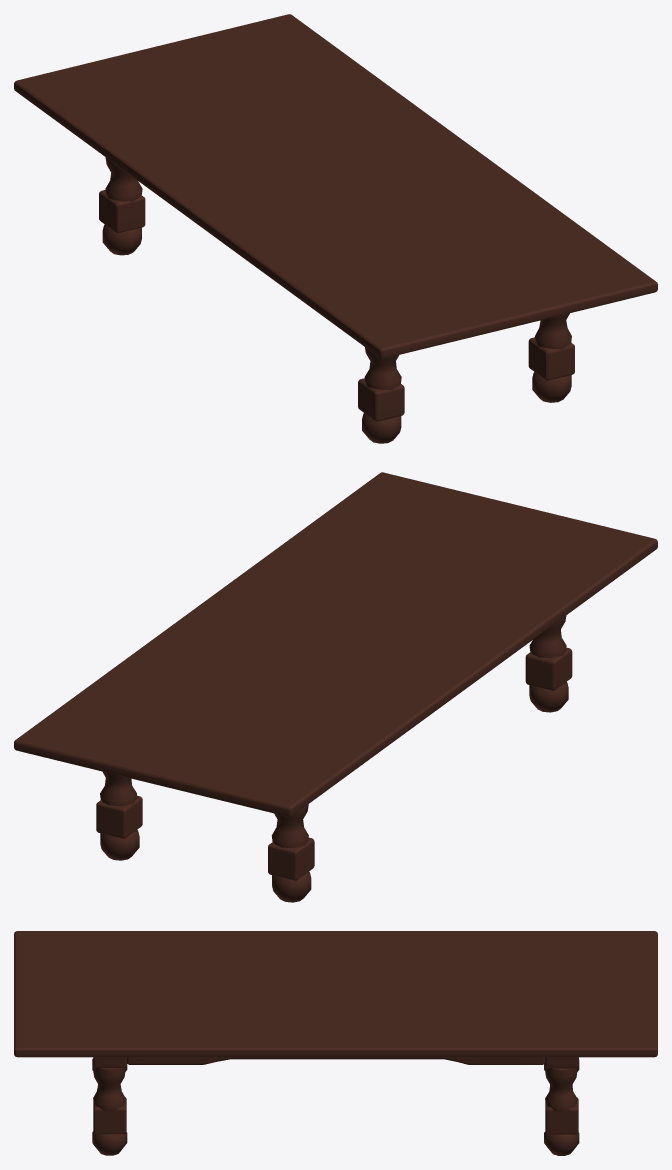
Rendered from Table_1.fbx.
3 renders of one model, top to bottom at view 1: azimuth 30°, elevation 25°; view 2: azimuth 150°, elevation 25°; view 3: azimuth 270°, elevation 25°, orthographic. The views are drawn at different scales.
Parts seen in each view (by area): view 1: ENV_SHIP_PROP_M_TABLE_01; view 2: ENV_SHIP_PROP_M_TABLE_01; view 3: ENV_SHIP_PROP_M_TABLE_01.
Part boxes in pixels (x1,y1,x2,y2): ENV_SHIP_PROP_M_TABLE_01: (14,14,657,443); ENV_SHIP_PROP_M_TABLE_01: (14,472,657,902); ENV_SHIP_PROP_M_TABLE_01: (14,931,657,1155).
Size of the model in its own units: 133 by 66.75 by 304.
